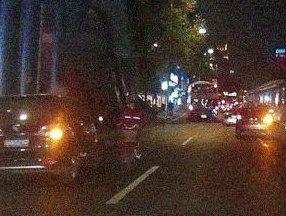L_light: (237, 115, 246, 121)
R_light: (264, 115, 273, 121)
T_light: (253, 109, 260, 110)
night-right: (237, 106, 274, 139)
